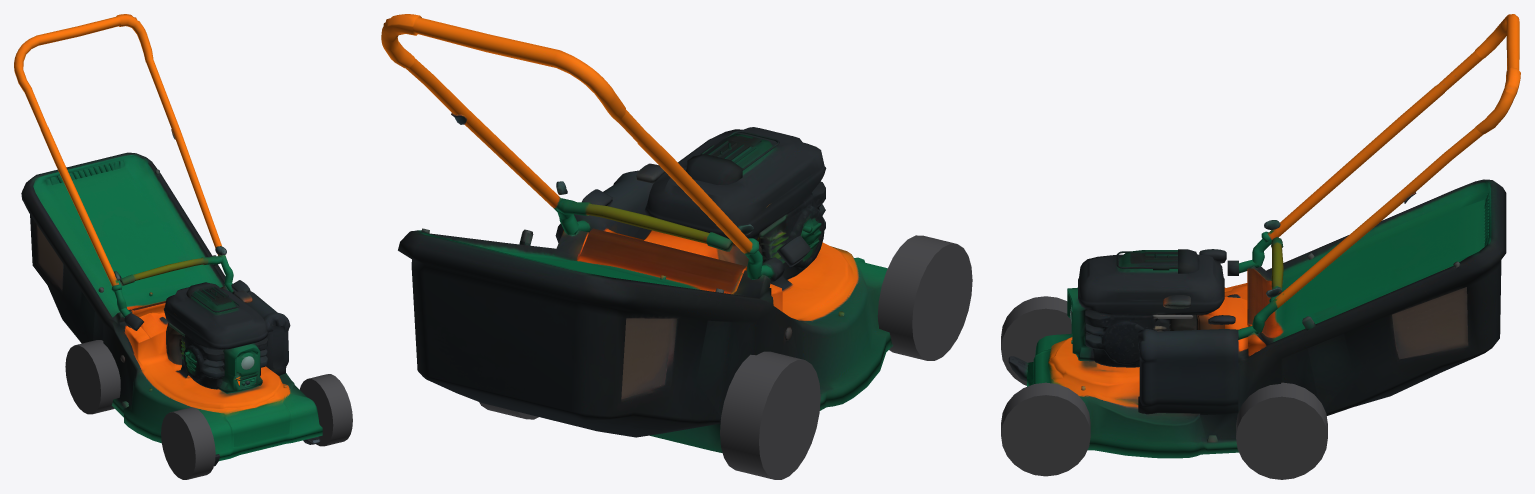
Rendered from SM_PushMower.fbx.
3 views of the same model, side by side, from view 1: azimuth 30°, elevation 25°; view 2: azimuth 150°, elevation 25°; view 3: azimuth 270°, elevation 25° (orthographic). The views are drawn at different scales.
Parts seen in each view (by area): view 1: SM_PushMower; view 2: SM_PushMower; view 3: SM_PushMower.
Part boxes in pixels (x1,y1,x2,y2): SM_PushMower: (14, 14, 352, 479); SM_PushMower: (381, 14, 972, 479); SM_PushMower: (1001, 14, 1520, 479).
Bounding box in the file's own units: 0.5763 × 1 × 1.22.
2 materials, 1 textured.
